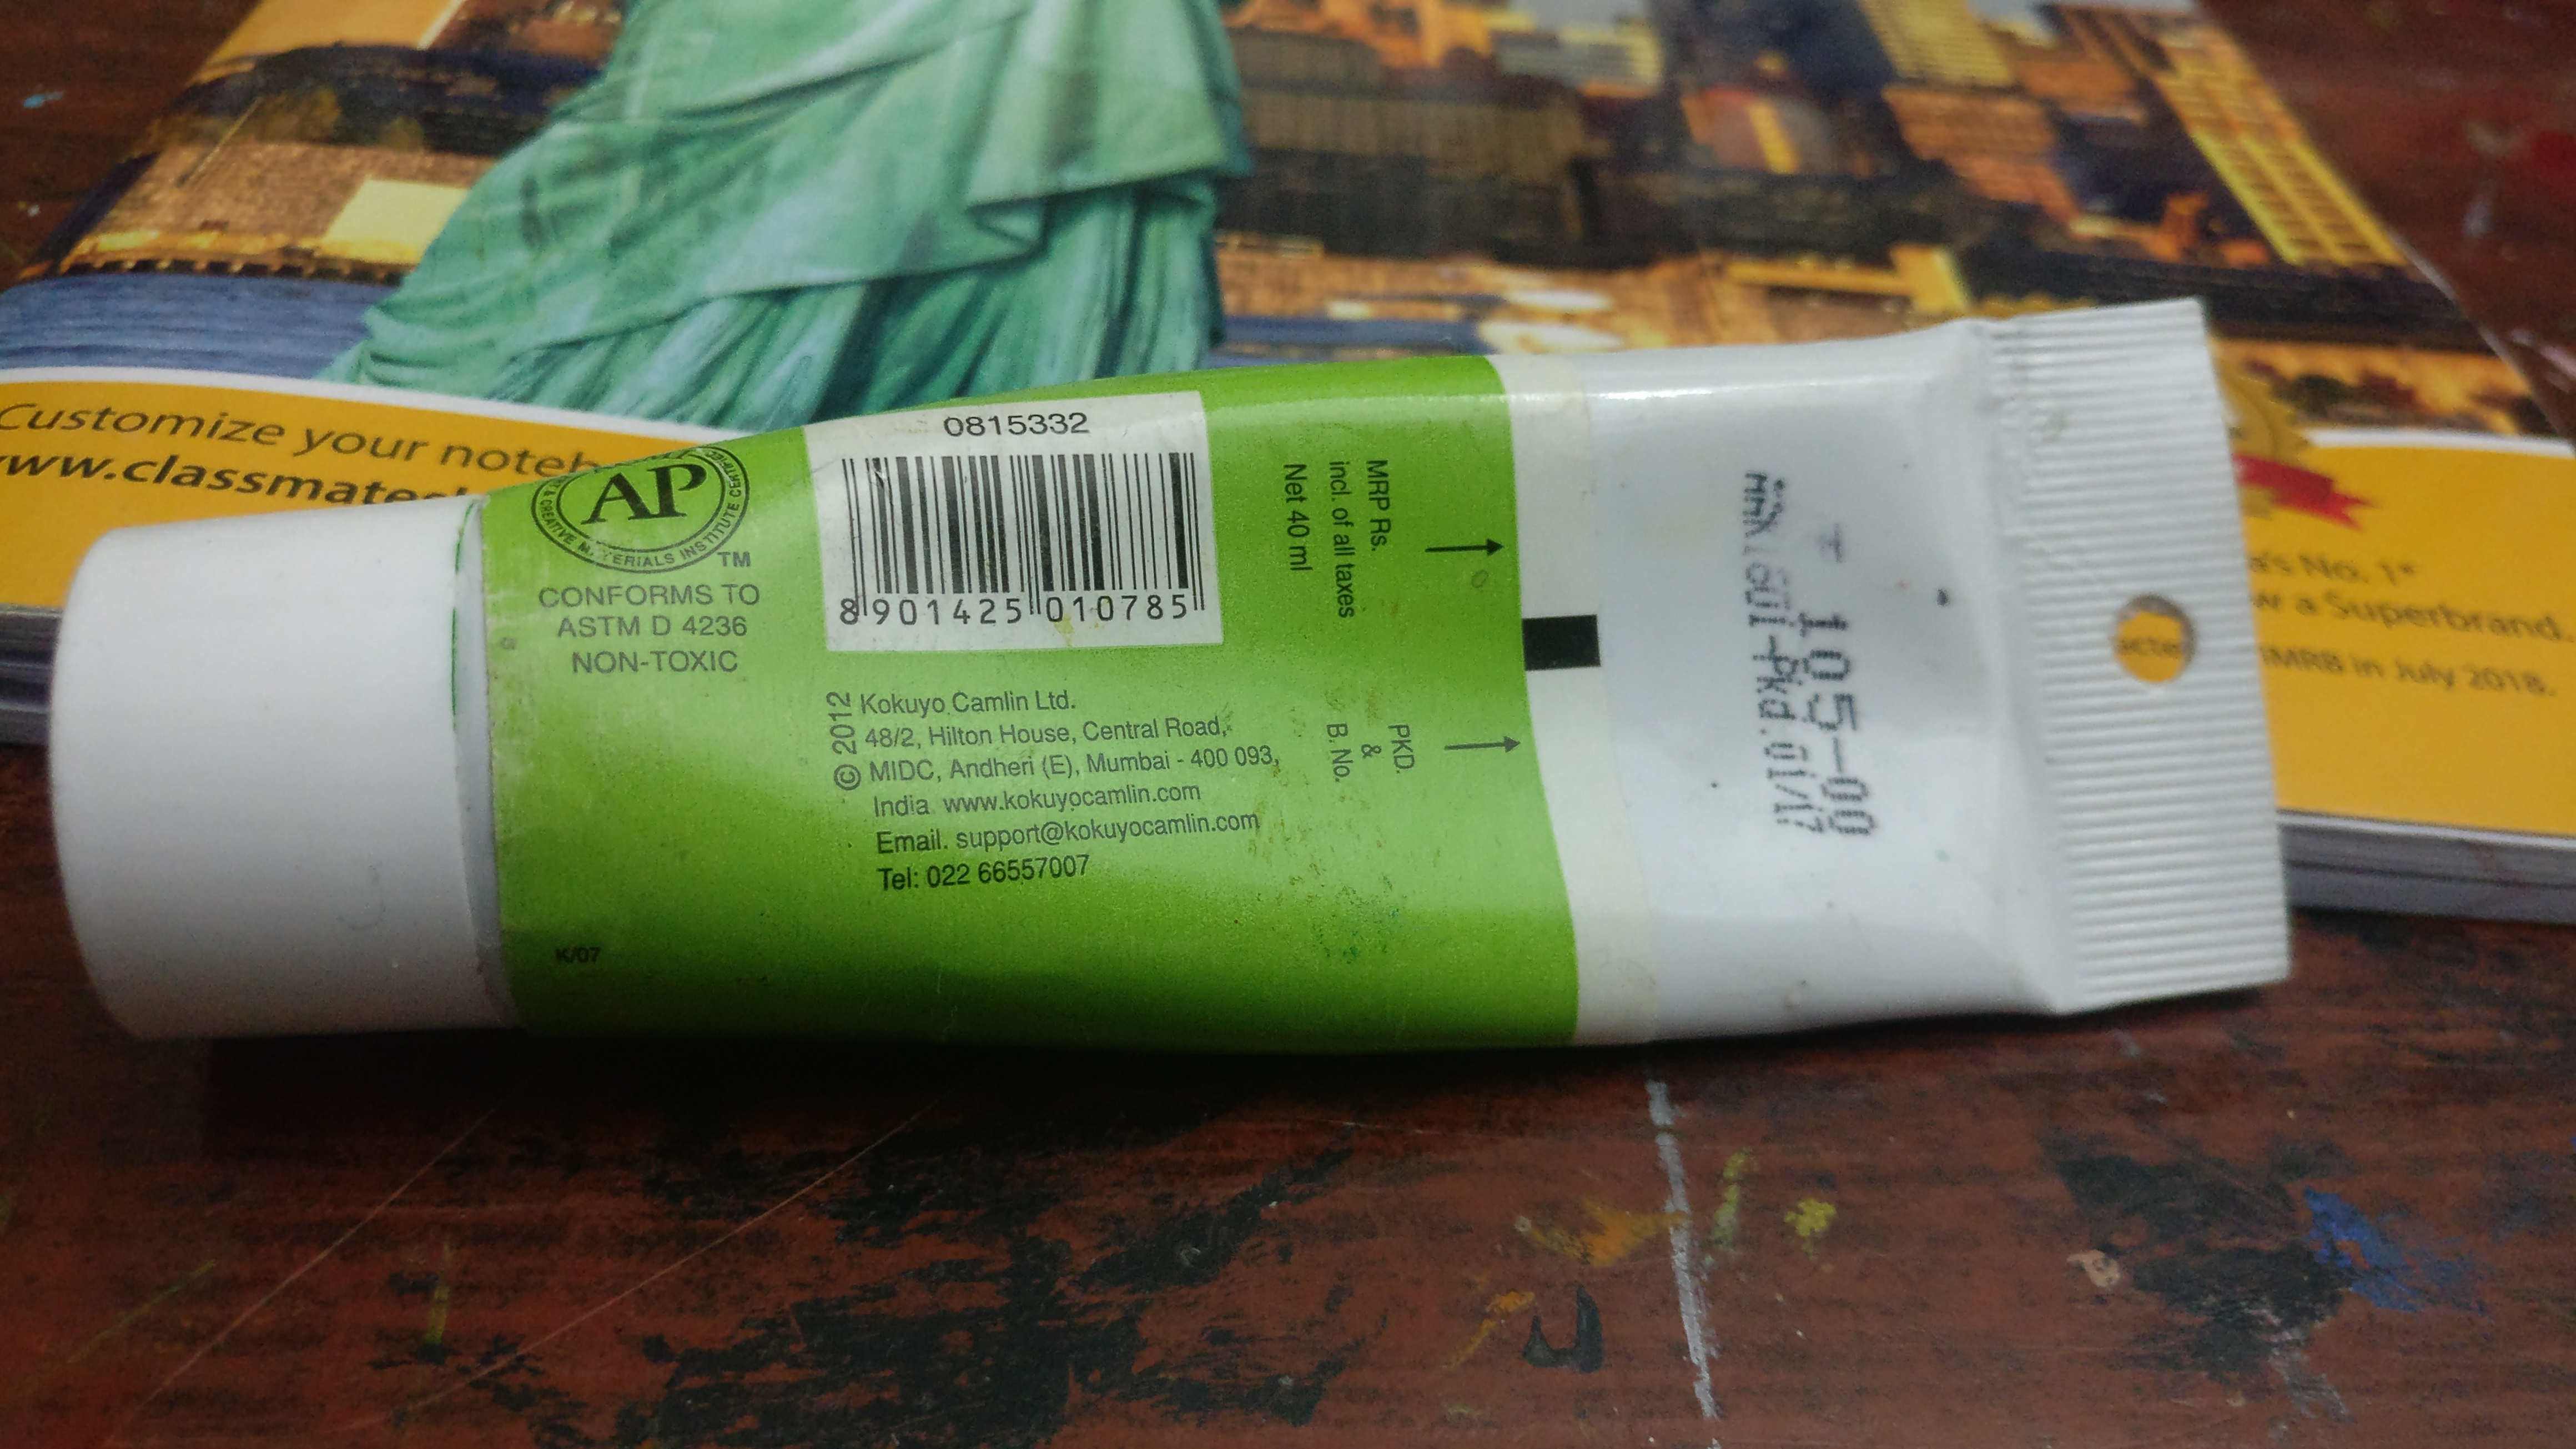barcode: (817, 419, 1212, 635)
